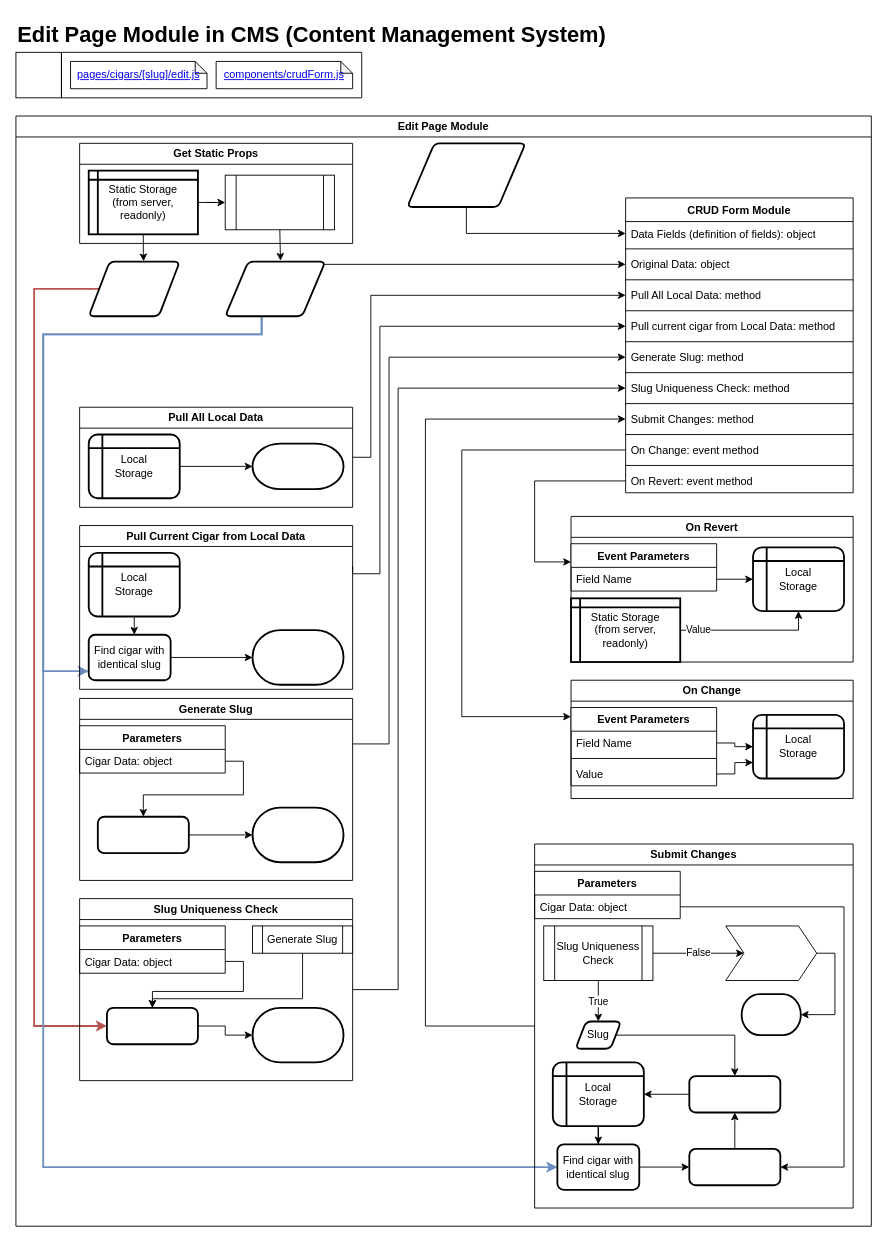
Image size: 896x1242. Some labels were removed from this diagram. The centre of each missing label's shape, as x and y in pixels:
"Add new slug to data" belongs at point 734,1094.
"Alert User" belongs at point 771,953.
"All Cigars" belongs at point 133,288.
"Compare slug against all cigars" belongs at point 152,1025.
"Current Cigar" belongs at point 275,288.
"Find current Cigar from URL" belongs at point 279,202.
"import cigar-fields.json" belongs at point 466,174.
"Related Files:" belongs at point 38,74.
"Replace cigar with new data" belongs at point 734,1167.
"Return" belongs at point 770,1014.
"Return: array" belongs at point 297,466.
"Return: object" belongs at point 297,657.
"Return: string" belongs at point 297,834.
"Return: true or false" belongs at point 297,1034.
"Slug Generation" belongs at point 142,834.
